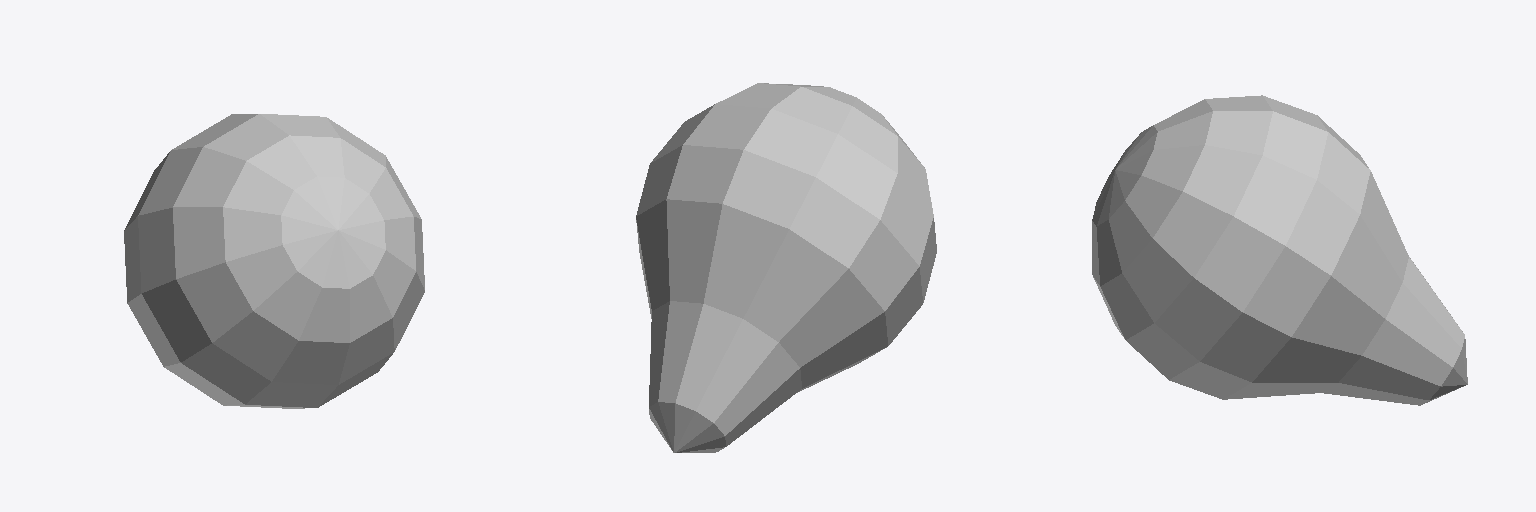
The model's file is Bulbs.obj.
The picture shows the model from 3 angles: view 1: azimuth 30°, elevation 25°; view 2: azimuth 150°, elevation 25°; view 3: azimuth 270°, elevation 25°; orthographic projection.
Parts seen in each view (by area): view 1: BulbGRP; view 2: BulbGRP, MetalPartGRP; view 3: BulbGRP, MetalPartGRP.
Part boxes in pixels (left/top/right/bottom): BulbGRP: left=124, top=114, right=424, bottom=408; BulbGRP: left=636, top=83, right=936, bottom=392; MetalPartGRP: left=649, top=301, right=801, bottom=452; BulbGRP: left=1092, top=95, right=1408, bottom=399; MetalPartGRP: left=1322, top=257, right=1467, bottom=405.
Size of the model in its own units: 0.06 by 0.0625 by 0.0734.